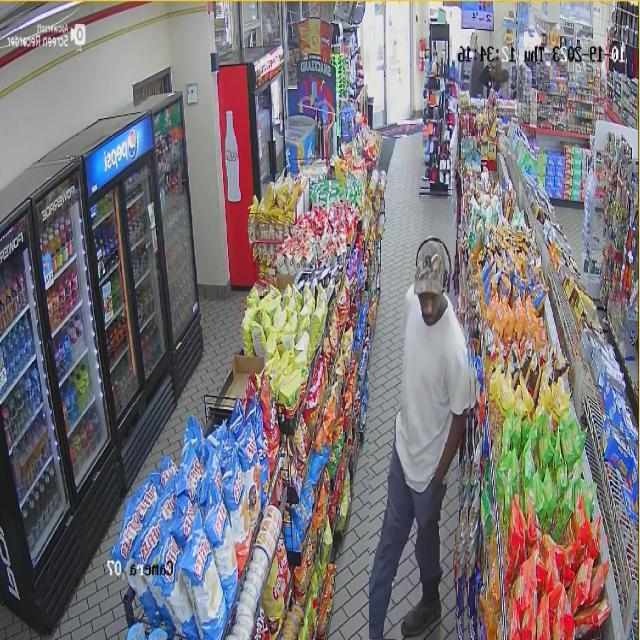Normal: (369, 223, 476, 640)
